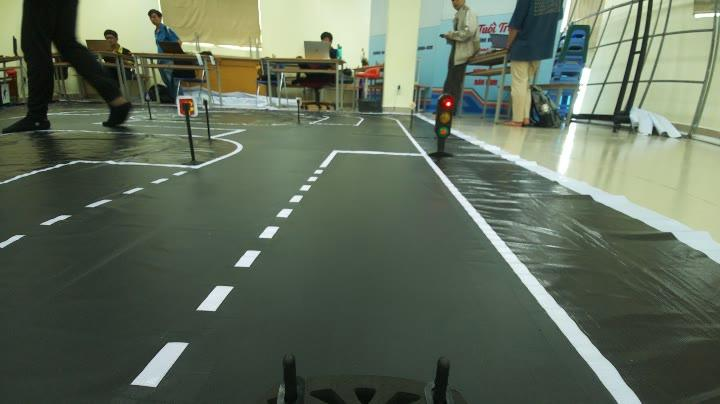trafficlight: (422, 88, 458, 162)
